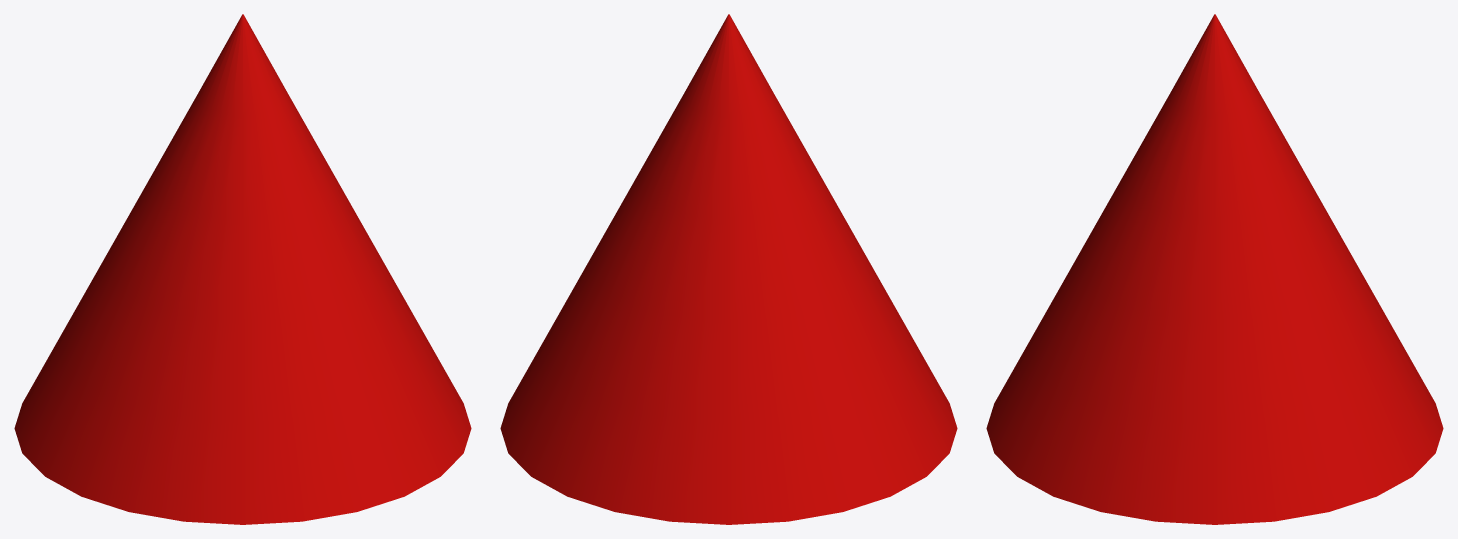
Rendered from SM_Enemy1.FBX.
The picture shows the model from 3 angles, left to right: view 1: azimuth 30°, elevation 25°; view 2: azimuth 150°, elevation 25°; view 3: azimuth 270°, elevation 25°; orthographic projection.
Visible parts, largest first — view 1: SM_Enemy1; view 2: SM_Enemy1; view 3: SM_Enemy1.
Part boxes in pixels (<box>): SM_Enemy1: <box>14,14,471,524</box>; SM_Enemy1: <box>500,14,957,524</box>; SM_Enemy1: <box>986,14,1443,524</box>.
Bounding box in the file's own units: 100 × 100 × 100.
